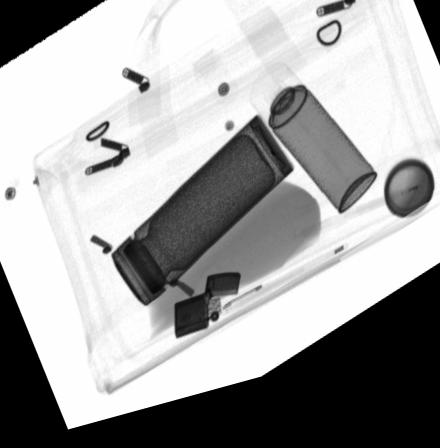Lighter: (174, 282, 240, 348)
Sprayer: (246, 76, 377, 232)
